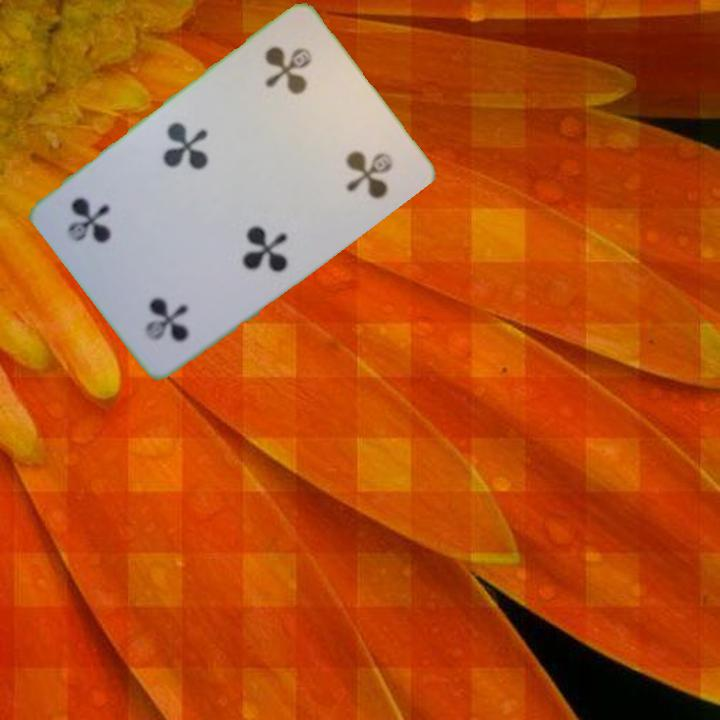c_6.png: (102, 236, 229, 366), (233, 19, 360, 148)
